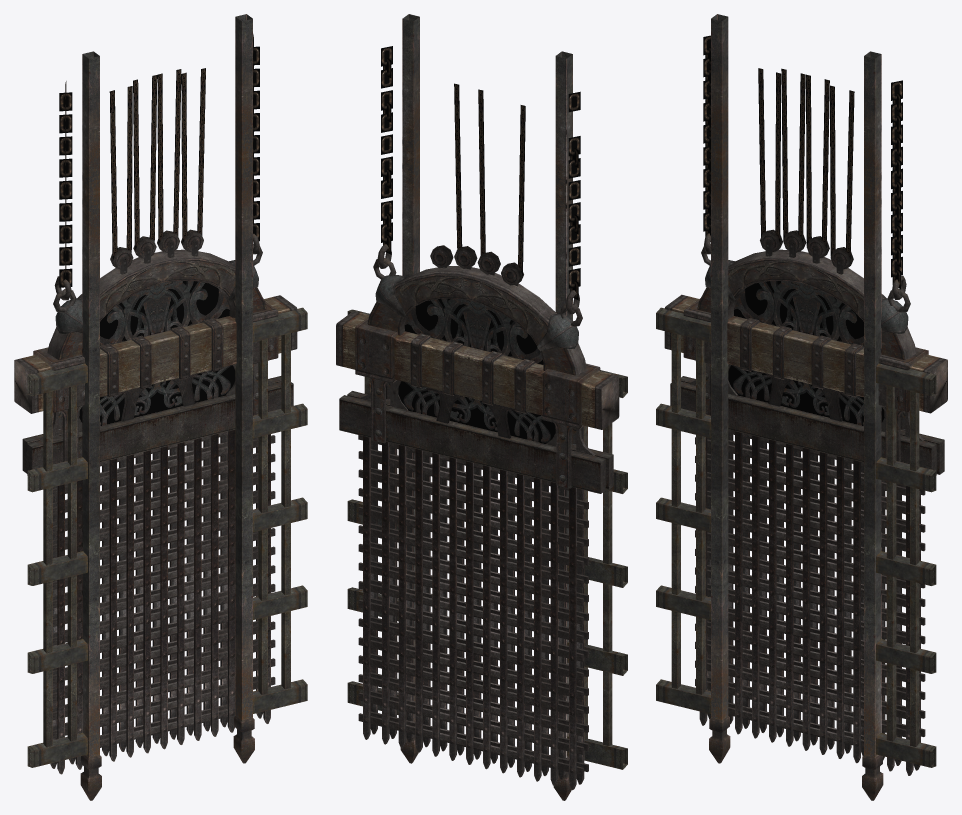
File: Door6.fbx
The picture shows the model from 3 angles, left to right: view 1: azimuth 30°, elevation 25°; view 2: azimuth 150°, elevation 25°; view 3: azimuth 330°, elevation 25°; orthographic projection.
Parts seen in each view (by area): view 1: Shared_PriestOfFire_Object_CastleDoor_SM_KJS; view 2: Shared_PriestOfFire_Object_CastleDoor_SM_KJS; view 3: Shared_PriestOfFire_Object_CastleDoor_SM_KJS.
Part boxes in pixels (x1=…): Shared_PriestOfFire_Object_CastleDoor_SM_KJS: x1=14, y1=14, x2=307, y2=800; Shared_PriestOfFire_Object_CastleDoor_SM_KJS: x1=336, y1=14, x2=627, y2=800; Shared_PriestOfFire_Object_CastleDoor_SM_KJS: x1=656, y1=14, x2=947, y2=800.
Bounding box in the file's own units: 1.93 × 4.98 × 0.3083.
1 material, 1 textured.
